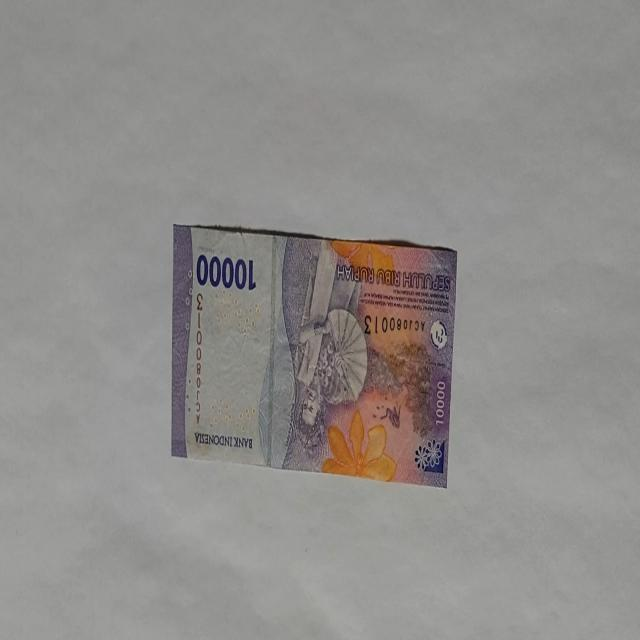sepuluh ribu rupiah: (170, 222, 458, 488), (195, 252, 257, 292)
